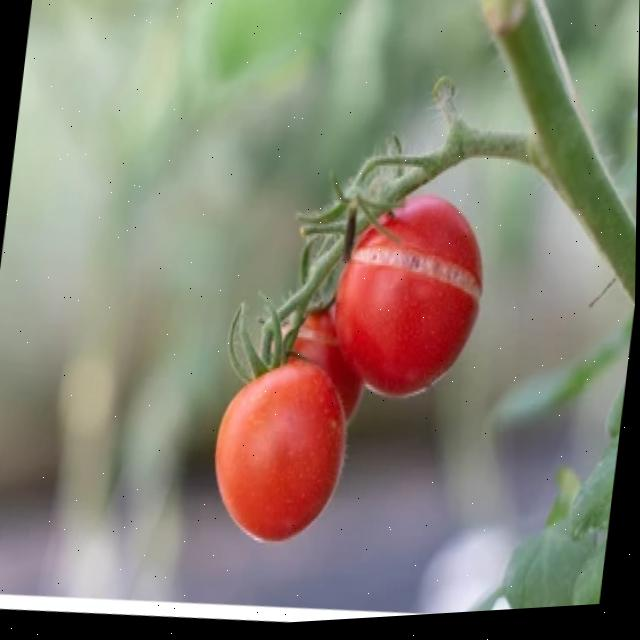damaged: (325, 182, 501, 414)
overripe: (195, 338, 364, 564)
